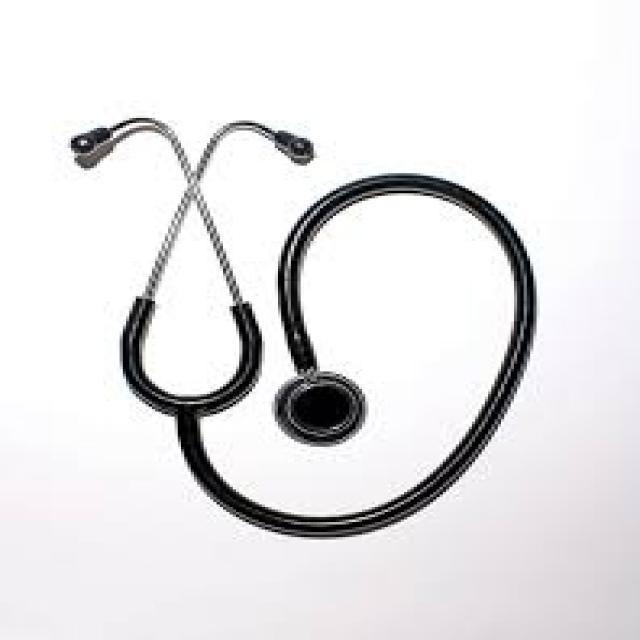stethoscope: (73, 101, 559, 566)
